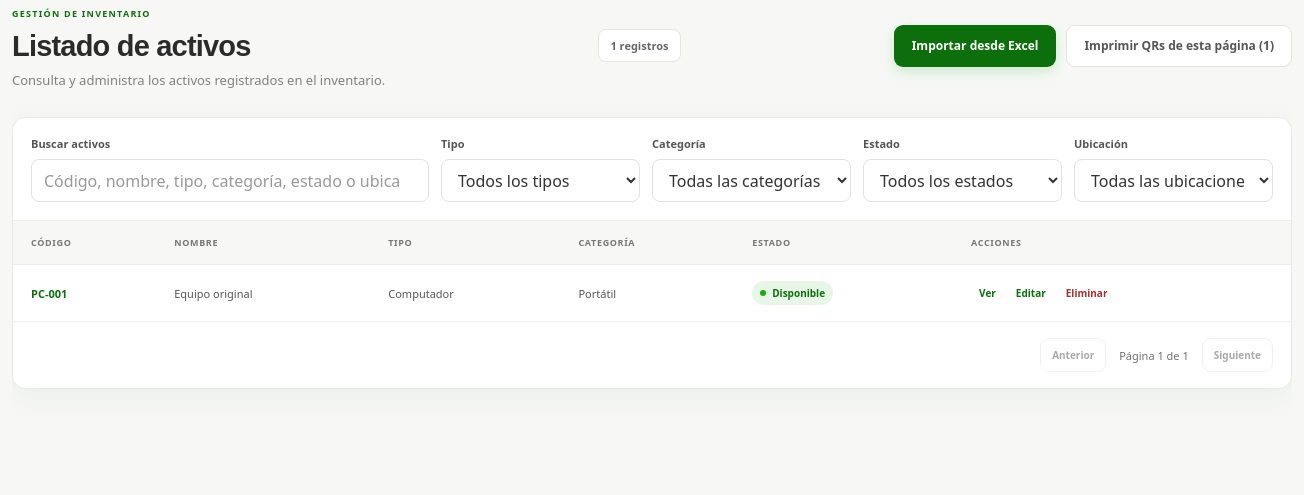
Test: Edición de inventario › muestra el motivo y conserva el activo si el servidor impide eliminarlo
Step 1. Click the button "Eliminar" → [1087, 293], box 1058,280 -> 1115,306
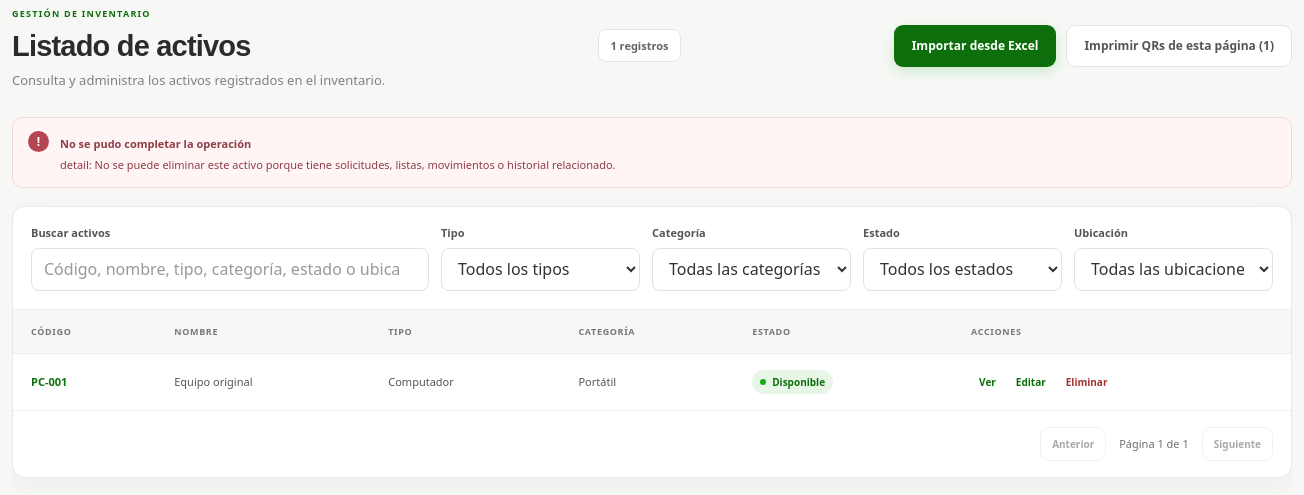
Expected: the text "Equipo original" is shown, 156,353 -> 370,410
Expected: the message shows "No se puede eliminar este activo porque tiene solicitudes, listas, movimientos o historial relacionado.", 60,157 -> 616,172
